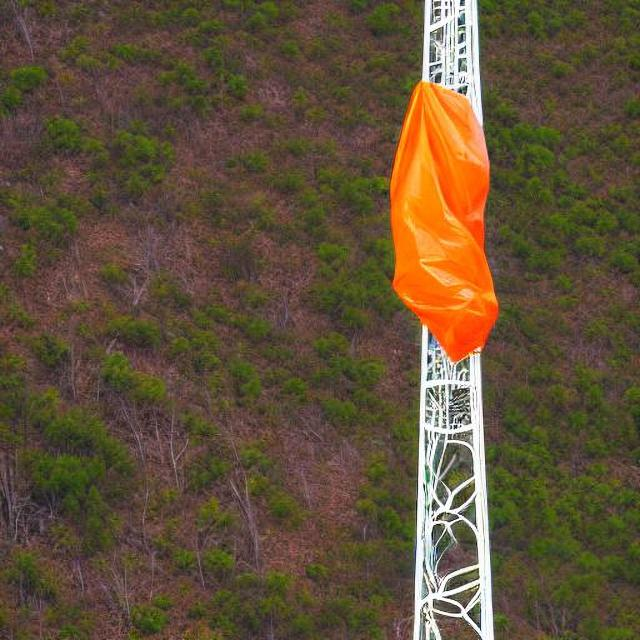plastic bag: (382, 74, 498, 362)
